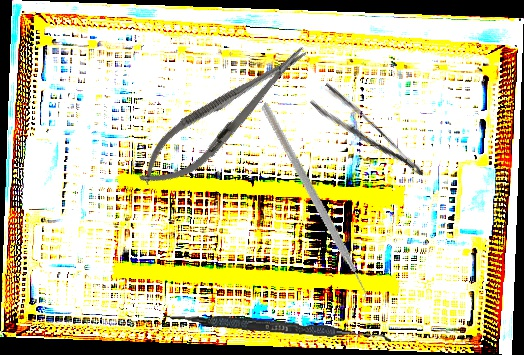Chopper: (197, 101, 426, 312)
Dressing Forceps: (308, 80, 427, 194)
Needle Holder: (126, 30, 322, 204)
Spatula Surgical: (162, 312, 393, 342)
